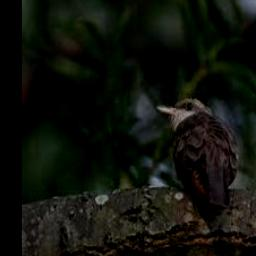Cuckoo: (156, 98, 239, 210)
